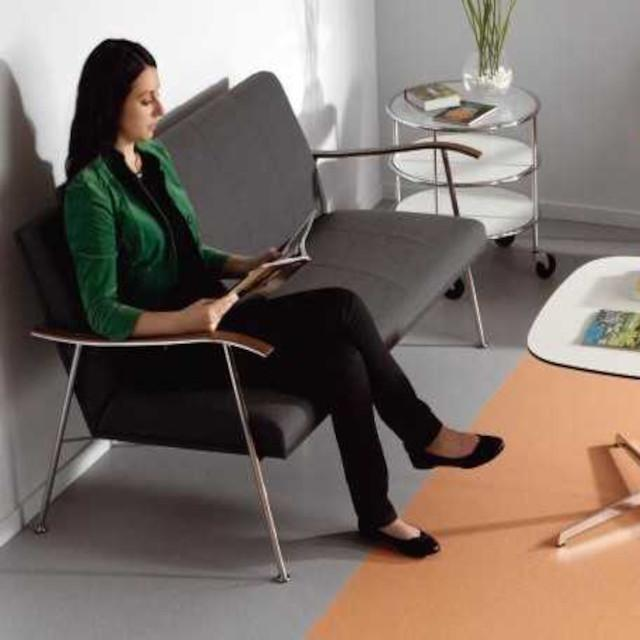kobieta: (61, 37, 500, 558)
